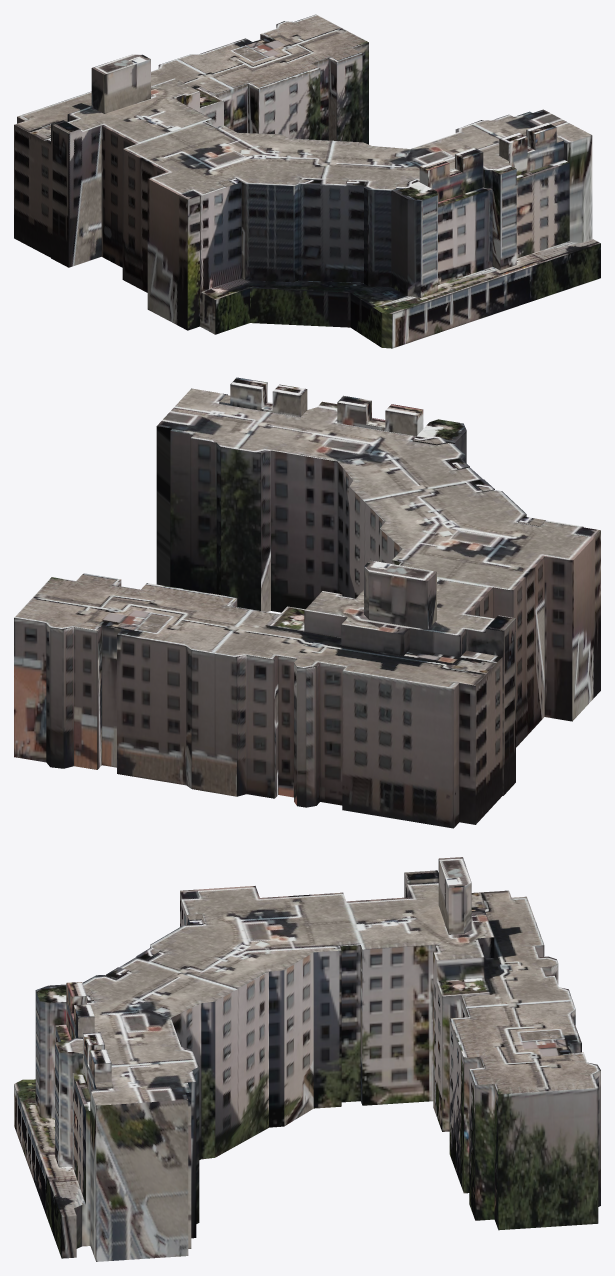
3 renders of one model, top to bottom at view 1: azimuth 30°, elevation 25°; view 2: azimuth 150°, elevation 25°; view 3: azimuth 270°, elevation 25°, orthographic. The views are drawn at different scales.
Parts seen in each view (by area): view 1: Z_UP; view 2: Z_UP; view 3: Z_UP.
Part boxes in pixels (left/top/right/bottom): Z_UP: left=14, top=14, right=600, bottom=348; Z_UP: left=14, top=377, right=600, bottom=828; Z_UP: left=14, top=857, right=600, bottom=1261.
Bounding box in the file's own units: 61.56 × 24.74 × 64.75.
2 materials, 1 textured.
